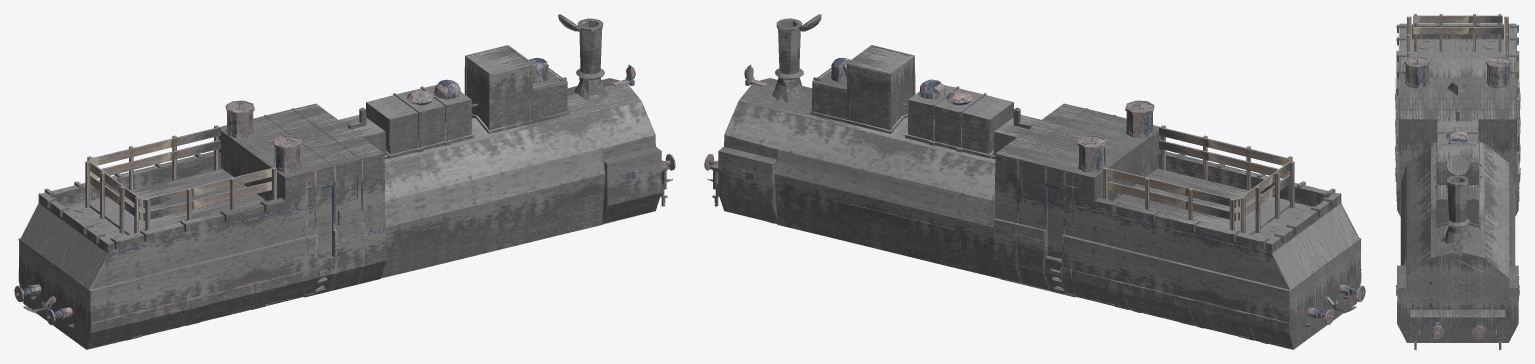
Rendered from soviet_loco.glb.
3 renders of one model, left to right at view 1: azimuth 30°, elevation 25°; view 2: azimuth 150°, elevation 25°; view 3: azimuth 270°, elevation 25°, orthographic. The views are drawn at different scales.
Visible parts, largest first — view 1: soviet_loco; view 2: soviet_loco; view 3: soviet_loco.
Part boxes in pixels (<box>): soviet_loco: <box>14,14,675,349</box>; soviet_loco: <box>704,14,1365,349</box>; soviet_loco: <box>1394,14,1520,349</box>.
Bounding box in the file's own units: 15.48 × 4.71 × 3.12.
Materials: 4 (4 with a texture image).
